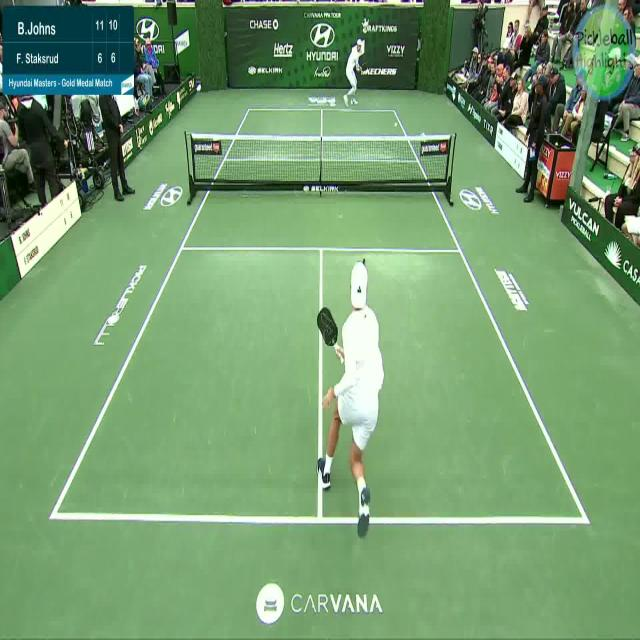Court: (51, 107, 586, 523)
ball: (390, 111, 402, 135)
